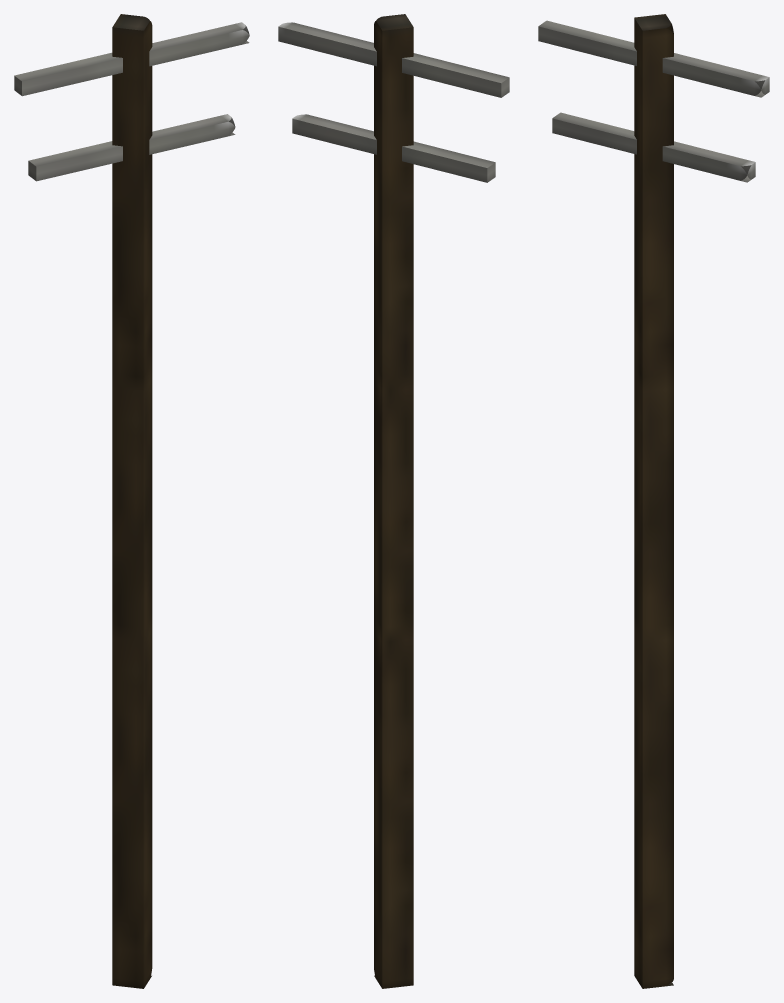
Rendered from power_pole.obj.
3 views of the same model, side by side, from view 1: azimuth 30°, elevation 25°; view 2: azimuth 150°, elevation 25°; view 3: azimuth 330°, elevation 25° (orthographic).
Visible parts, largest first — view 1: nx, ny, nz; view 2: nx, ny, nz; view 3: nx, ny, nz.
Part boxes in pixels (left/top/right/bottom): nx: left=112, top=14, right=152, bottom=988; ny: left=14, top=22, right=249, bottom=96; nz: left=28, top=114, right=235, bottom=181; nx: left=374, top=14, right=413, bottom=988; ny: left=278, top=22, right=509, bottom=97; nz: left=292, top=114, right=495, bottom=182; nx: left=634, top=14, right=673, bottom=988; ny: left=538, top=20, right=769, bottom=97; nz: left=552, top=112, right=755, bottom=182.
Bounding box in the file's own units: 1.5 × 6.09 × 0.2652.
1 material, 1 textured.
